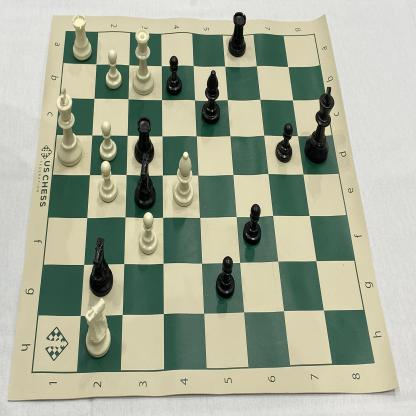black-bishop: (199, 66, 224, 131)
black-king: (301, 79, 338, 168)
black-knight: (88, 233, 116, 300), (130, 150, 159, 213)
black-pawn: (214, 253, 239, 302), (241, 199, 265, 249), (162, 53, 184, 98), (274, 120, 295, 164)
black-rook: (133, 114, 159, 171), (227, 10, 249, 63)
white-bishop: (169, 146, 196, 211)
white-king: (52, 79, 85, 172)
white-knight: (80, 295, 117, 362)
white-pawn: (134, 206, 161, 257), (95, 158, 121, 205), (94, 118, 118, 163), (103, 49, 125, 94)
white-queen: (132, 23, 157, 100)
white-rook: (68, 10, 94, 64)
